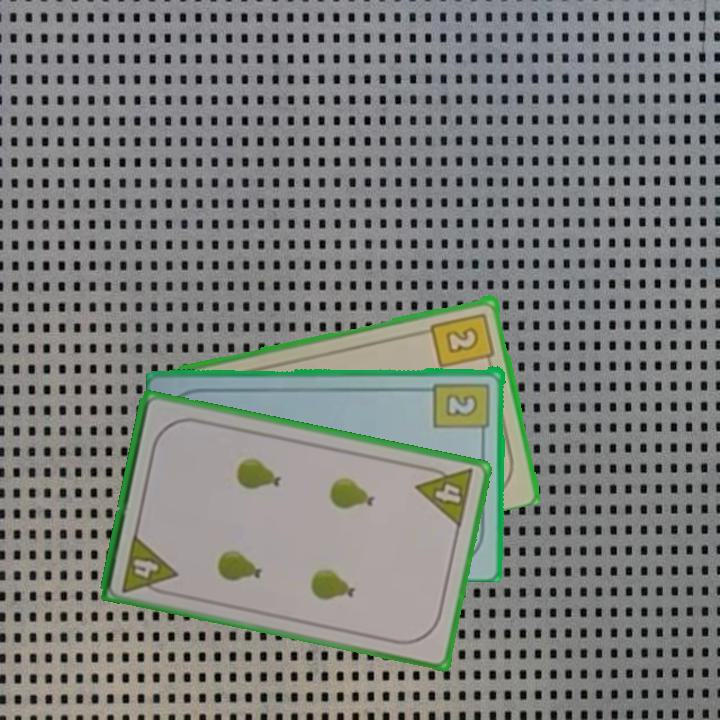2b: (428, 309, 497, 370), (431, 379, 493, 440)
4p: (412, 461, 477, 530), (118, 530, 180, 598)
